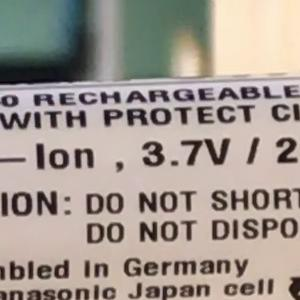keyword: (132, 128, 235, 177)
